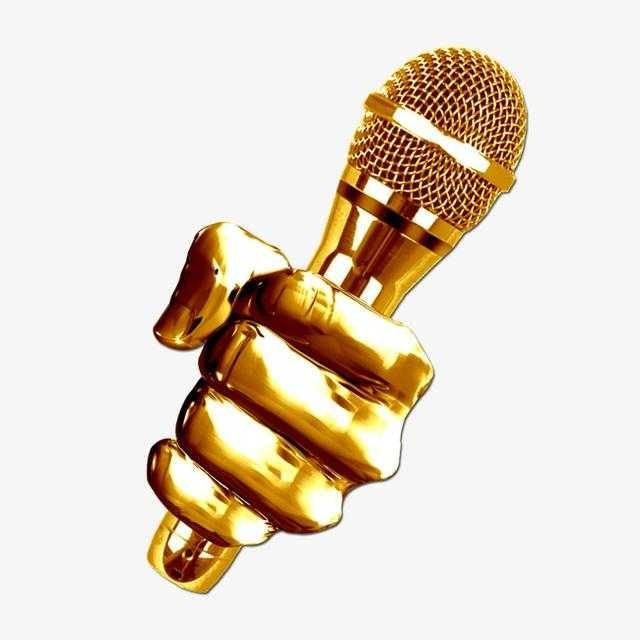microphone: (111, 61, 588, 610)
